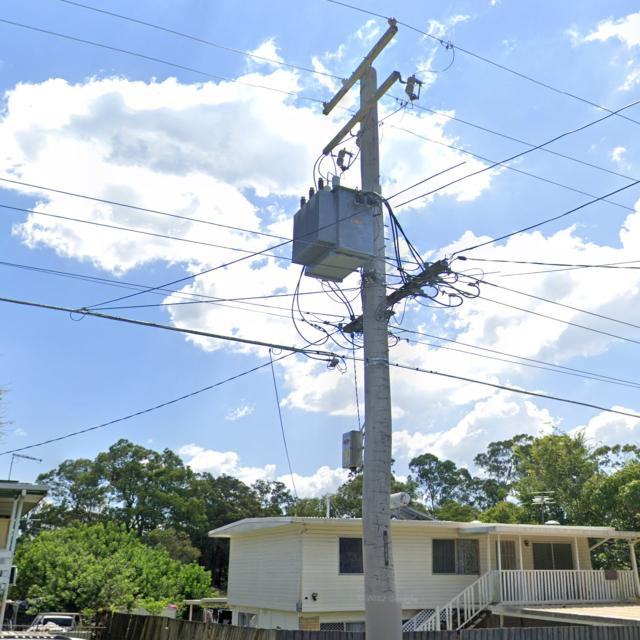HV-transmission: (320, 18, 422, 173)
LV link: (426, 275, 481, 298), (409, 286, 463, 308)
concrete-pole: (358, 64, 399, 640)
crossarm: (342, 258, 448, 336), (320, 23, 400, 115), (322, 69, 399, 155)
transformer: (293, 175, 376, 282)
